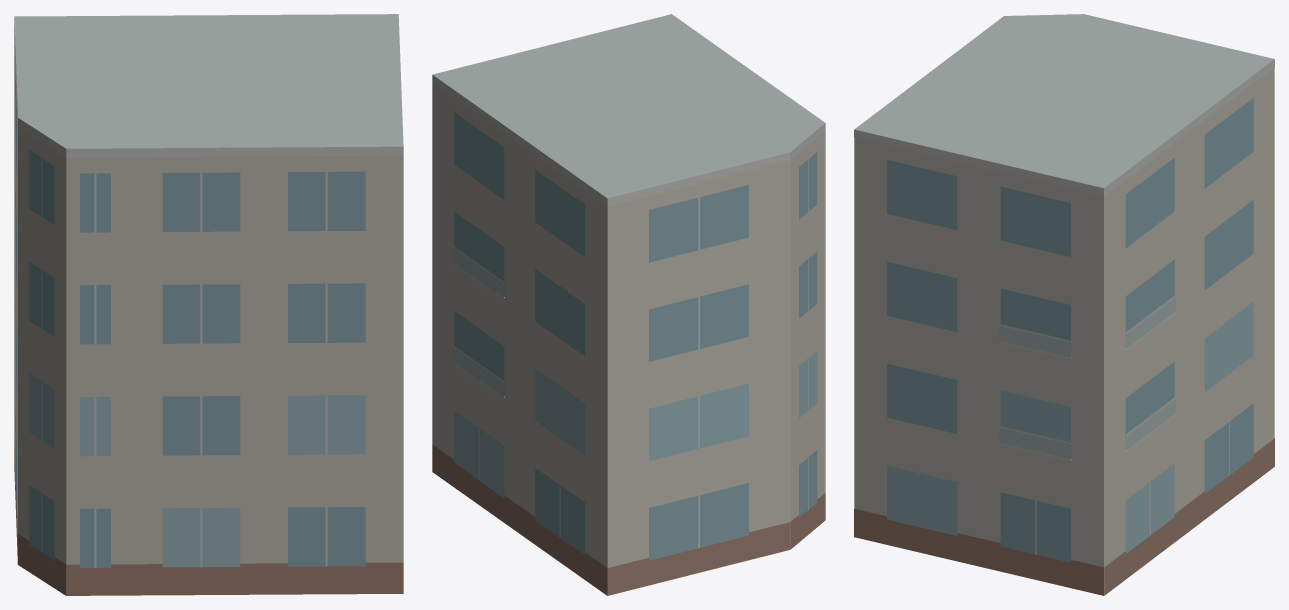
The model's file is residential-5309150c-7d5c-484b-ad04-d17b031f0f69.glb.
3 renders of one model, left to right at view 1: azimuth 30°, elevation 25°; view 2: azimuth 150°, elevation 25°; view 3: azimuth 270°, elevation 25°, orthographic. The views are drawn at different scales.
Parts seen in each view (by area): view 1: residential-5309150c-7d5c-484b-ad04-d17b031f0f69.tmp; view 2: residential-5309150c-7d5c-484b-ad04-d17b031f0f69.tmp; view 3: residential-5309150c-7d5c-484b-ad04-d17b031f0f69.tmp.
Part boxes in pixels (x1,y1,x2,y2): residential-5309150c-7d5c-484b-ad04-d17b031f0f69.tmp: (14, 14, 403, 595); residential-5309150c-7d5c-484b-ad04-d17b031f0f69.tmp: (432, 14, 825, 595); residential-5309150c-7d5c-484b-ad04-d17b031f0f69.tmp: (854, 14, 1274, 595).
Bounding box in the file's own units: 11.2 × 12.2 × 11.42.
